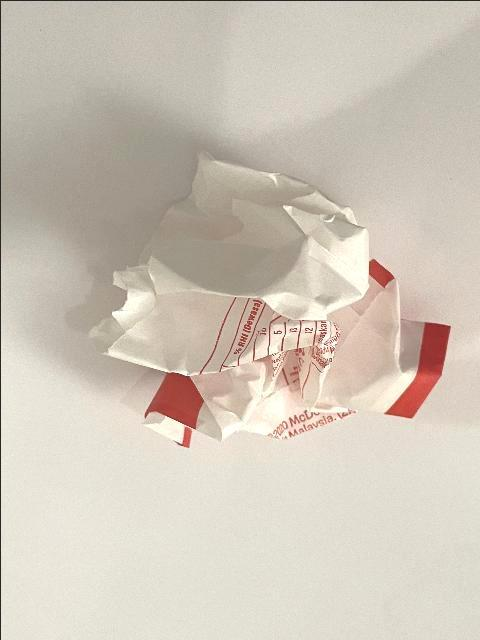paperbag: (87, 148, 454, 452)
